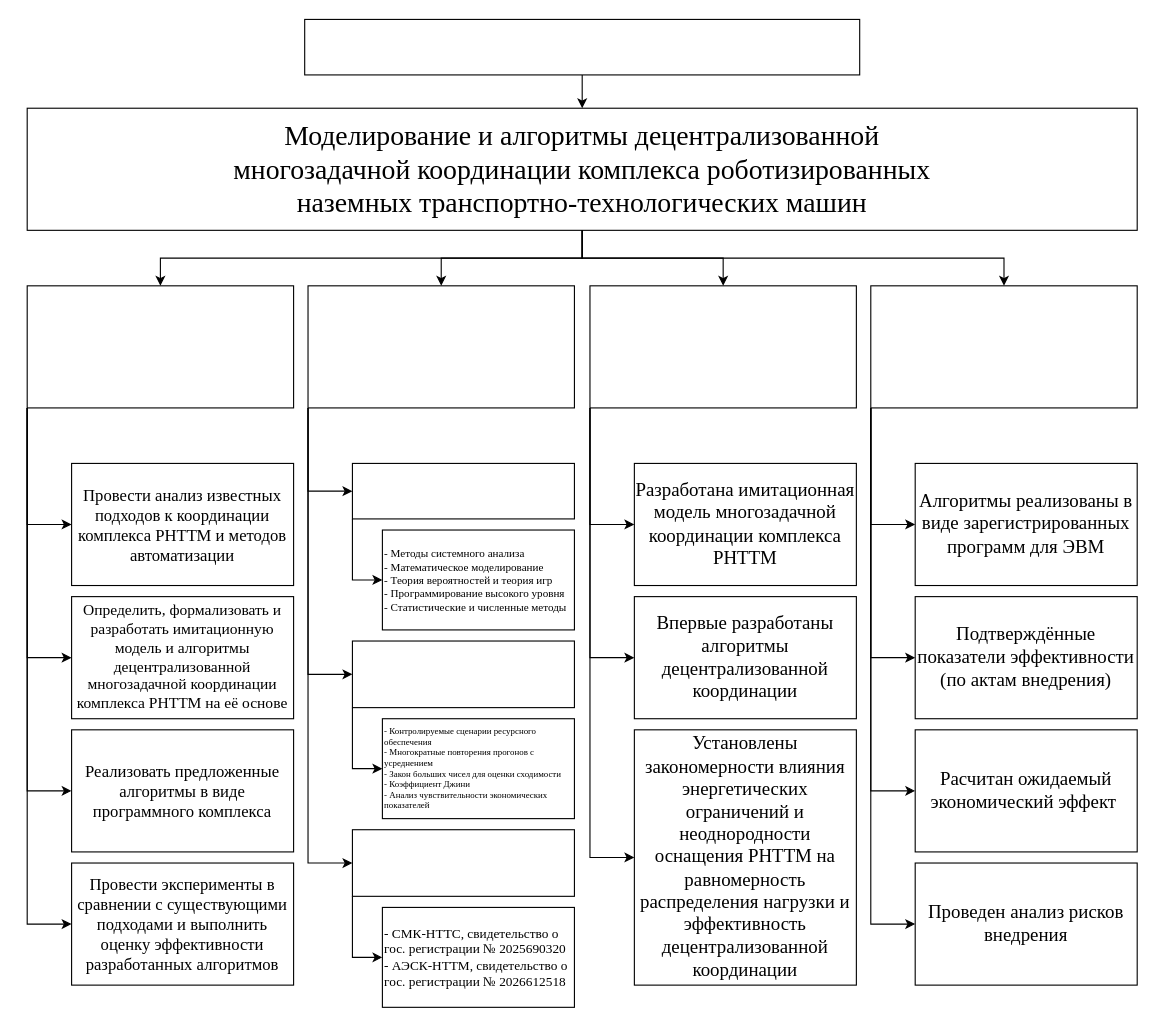
Some shapes in this 1157 by 1027 pixel diagram are drawn without their labels. Here are the shapes that lost their labels. From the top down, the centre of each, then its label:
At point 582,46: "НАУЧНО-ТЕХНИЧЕСКАЯ ПРОБЛЕМА".
At point 160,346: "Основные цели и задачи исследования".
At point 440,346: "Методы и средства исследования".
At point 722,346: "Основные научные результаты".
At point 1003,346: "Практические результаты и ожидаемый экономический эффект".
At point 462,490: "Методологическая база".
At point 462,674: "Экспериментальные методы".
At point 462,862: "Программные средства".
